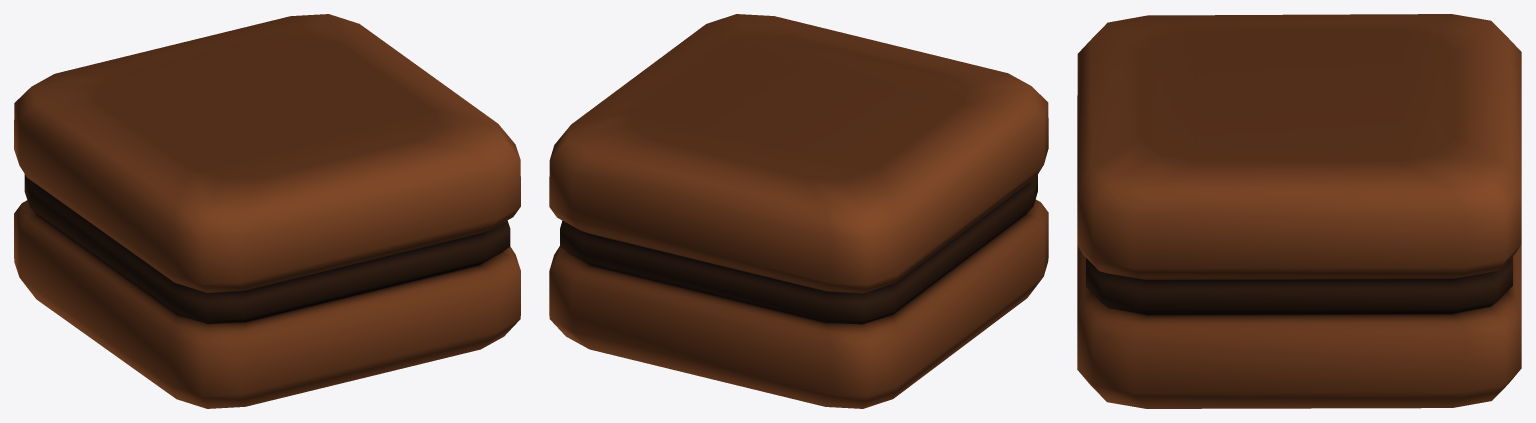
Rendered from Snack-Cookie_Chocolate.fbx.
The picture shows the model from 3 angles, left to right: view 1: azimuth 30°, elevation 25°; view 2: azimuth 150°, elevation 25°; view 3: azimuth 270°, elevation 25°; orthographic projection. The views are drawn at different scales.
Visible parts, largest first — view 1: Snack-Cookie_Chocolate; view 2: Snack-Cookie_Chocolate; view 3: Snack-Cookie_Chocolate.
Part boxes in pixels (left/top/right/bottom): Snack-Cookie_Chocolate: left=14, top=14, right=520, bottom=408; Snack-Cookie_Chocolate: left=549, top=14, right=1048, bottom=408; Snack-Cookie_Chocolate: left=1077, top=14, right=1521, bottom=408.
Size of the model in its own units: 143 by 82.5 by 143.
